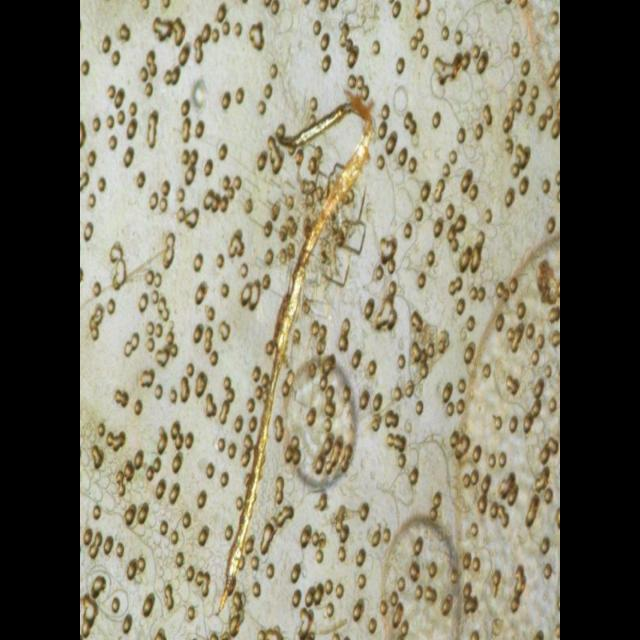Fibre: (81, 0, 559, 638), (216, 86, 374, 616)
